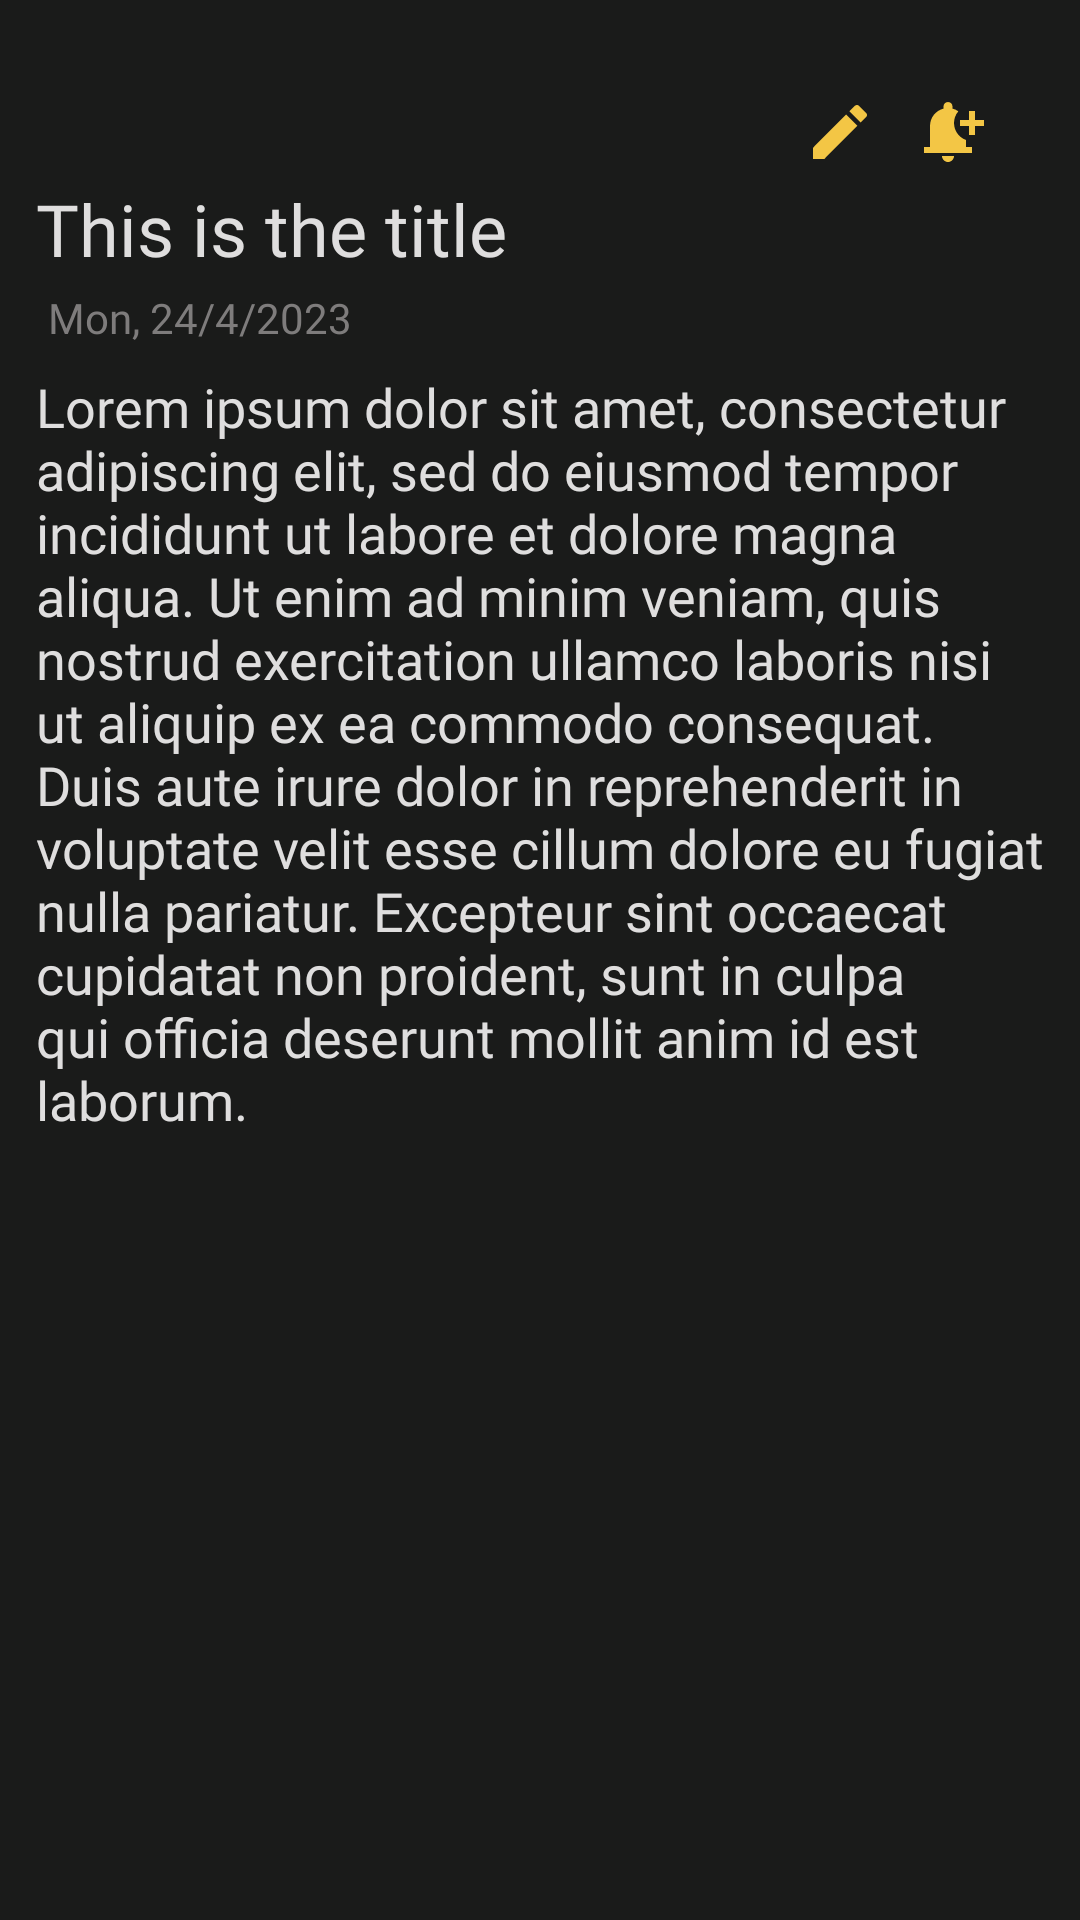

Locate icon controls on the screen. Image size 1080*1920, boxes as (x1, y1, x2, y2).
edit: (813, 105, 867, 159)
notification: (924, 102, 984, 162)
